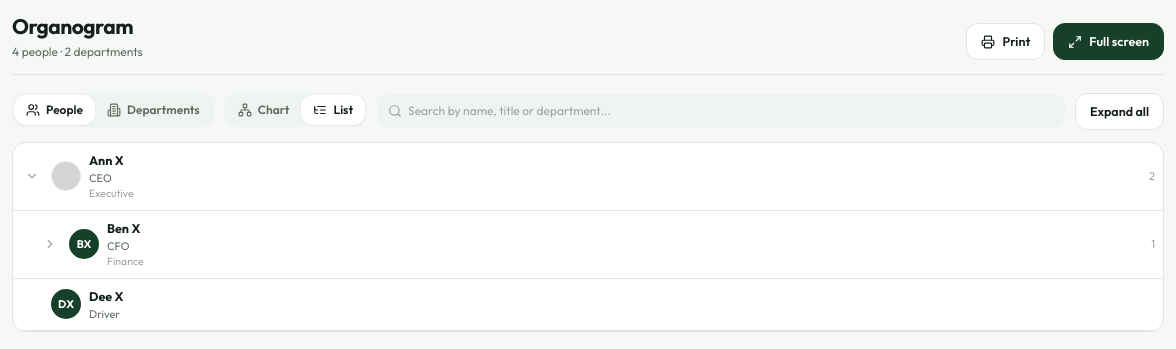
Test: Organogram › has a collapsible list for phones
This screenshot has width=1176, height=349.
Expected: the element named "Organogram" is shown, top-left (13, 143), bottom-right (1163, 331)
Click the button named "Hide 1 under Ann X" at (32, 176), box top-left (21, 165), bottom-right (43, 187)
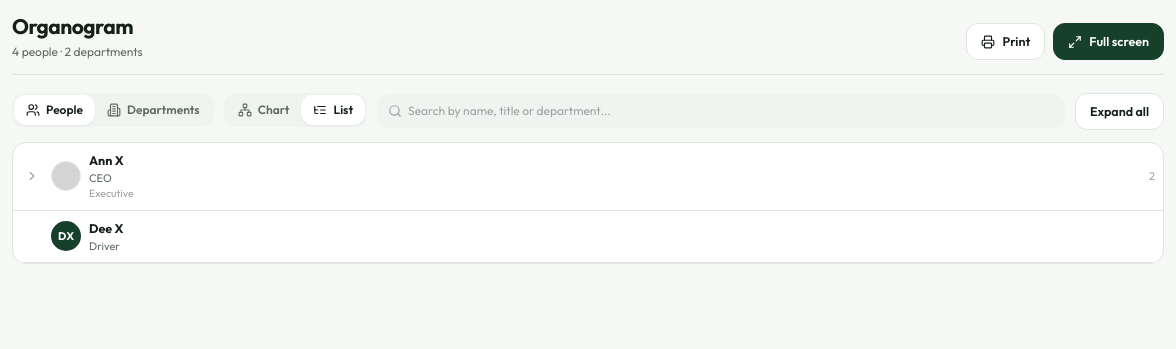
Result: the text "Ben X" is gone
